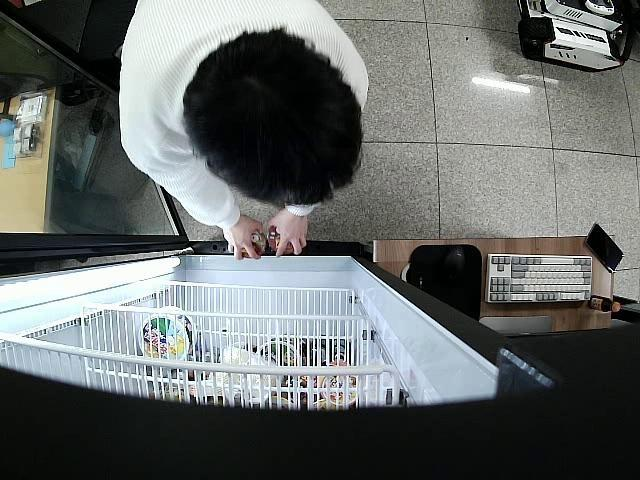06_nuguri_S: (268, 222, 302, 255), (242, 232, 266, 260)
